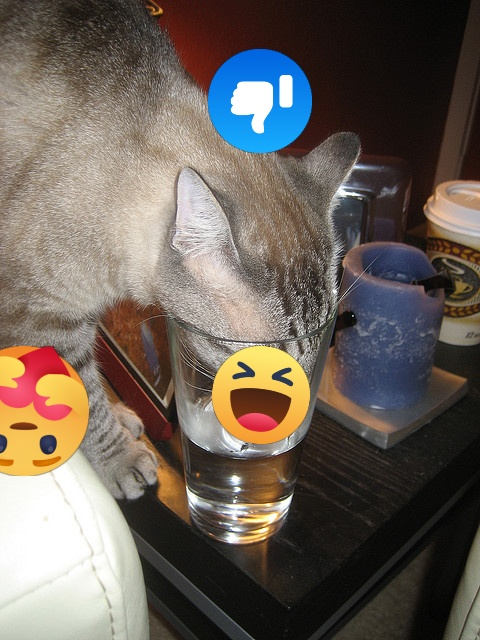care: (0, 346, 89, 476)
haha: (212, 346, 310, 444)
like: (208, 49, 312, 153)
